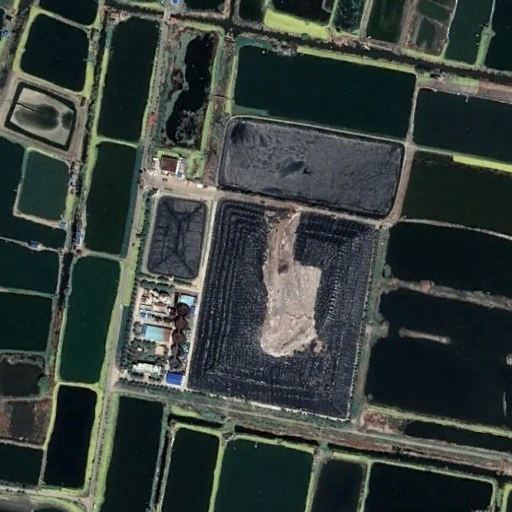lf: (177, 199, 380, 419)
